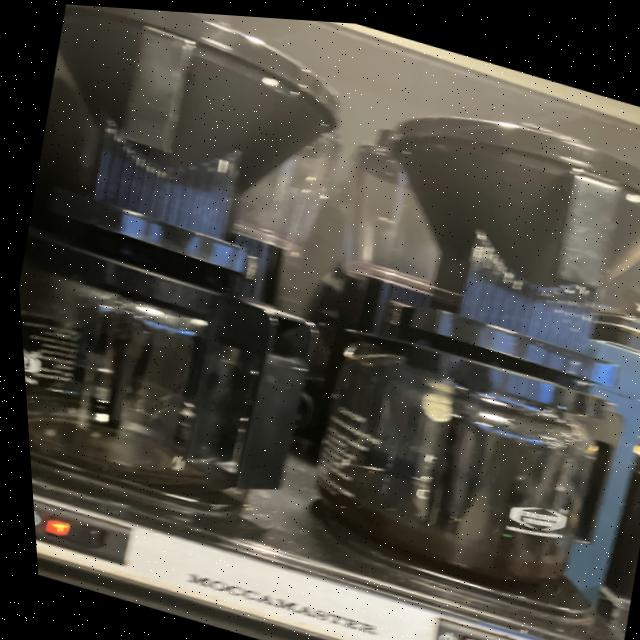coffee: (278, 325, 611, 598)
nocoffee: (12, 237, 293, 519)
